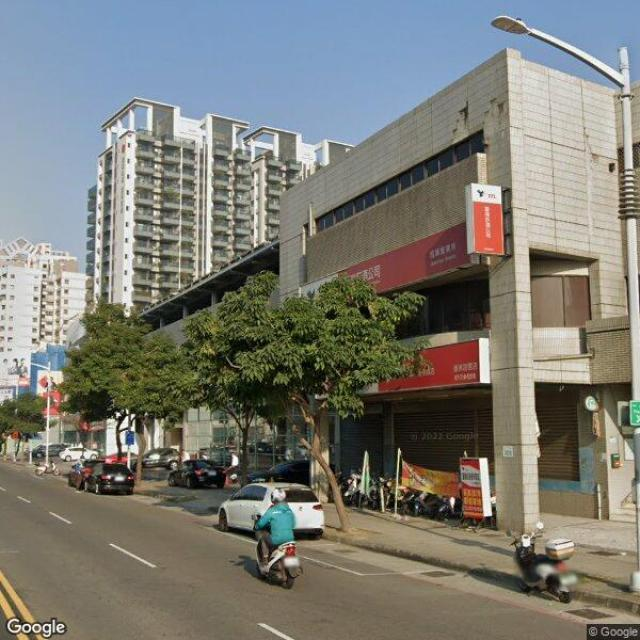Legalparking: (341, 462, 482, 524), (211, 482, 329, 544), (59, 454, 133, 494)
illegalparking: (506, 521, 580, 602), (166, 456, 226, 494), (249, 456, 329, 484)
